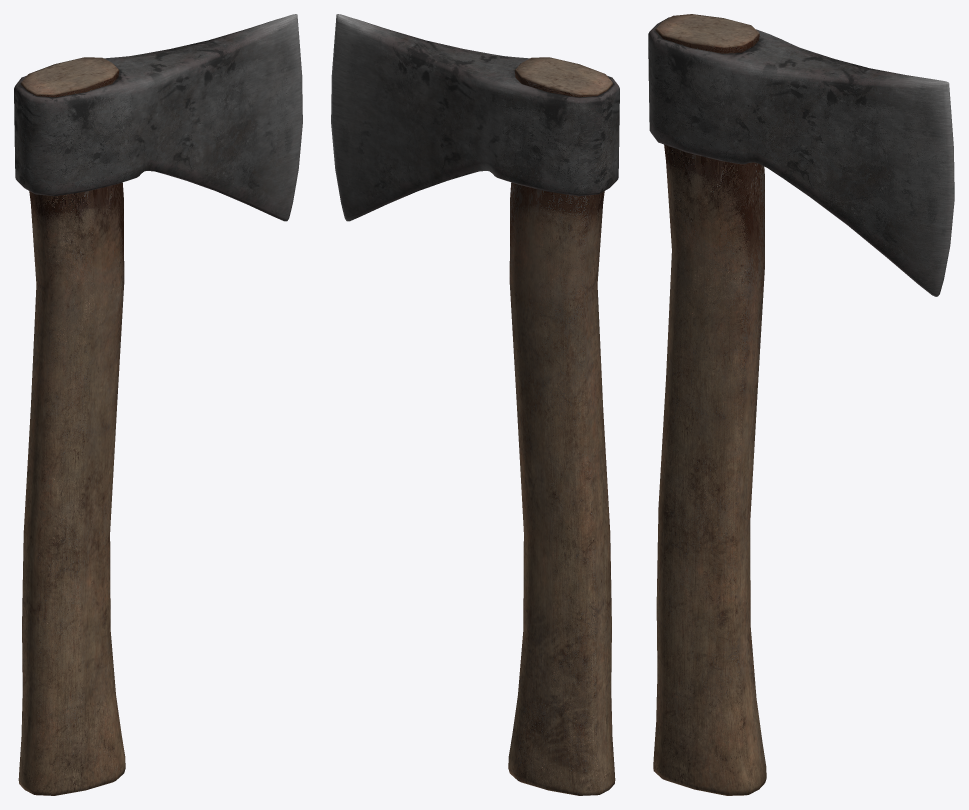
Rendered from axe.fbx.
3 renders of one model, left to right at view 1: azimuth 30°, elevation 25°; view 2: azimuth 150°, elevation 25°; view 3: azimuth 330°, elevation 25°, orthographic. The views are drawn at different scales.
Parts seen in each view (by area): view 1: wood part, metal part; view 2: wood part, metal part; view 3: wood part, metal part.
Part boxes in pixels (bbox=[...]): wood part: bbox=[18, 57, 125, 795]; metal part: bbox=[14, 14, 302, 221]; wood part: bbox=[508, 57, 615, 795]; metal part: bbox=[331, 14, 619, 221]; wood part: bbox=[653, 14, 766, 795]; metal part: bbox=[648, 17, 954, 296].
Bounding box in the file's own units: 711 × 1718 × 171.
2 materials, 2 textured.
